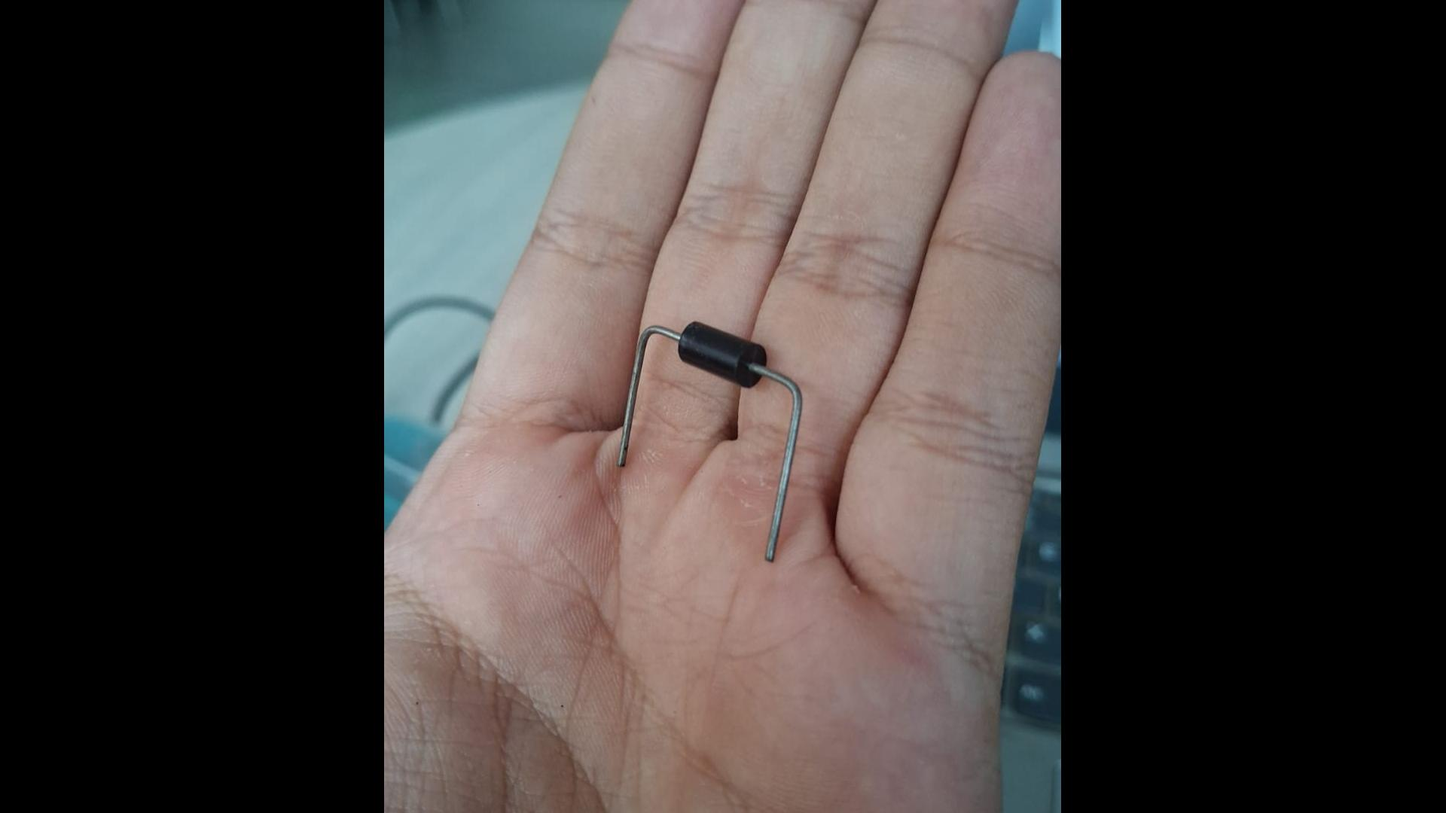Diodo: (618, 320, 801, 562)
